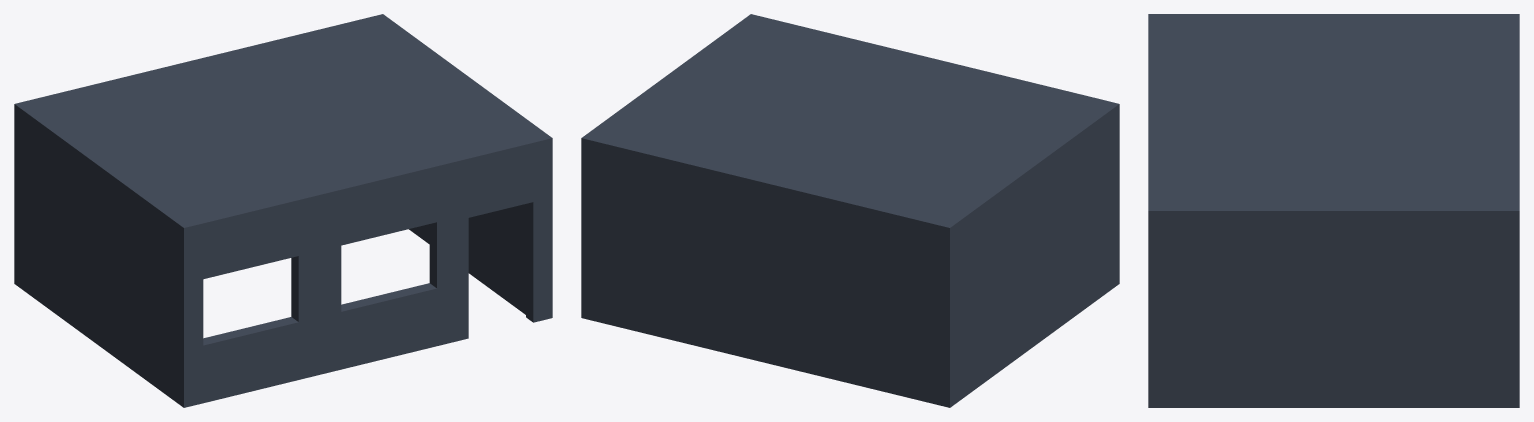
Rendered from Wall.fbx.
The picture shows the model from 3 angles, left to right: view 1: azimuth 30°, elevation 25°; view 2: azimuth 150°, elevation 25°; view 3: azimuth 270°, elevation 25°; orthographic projection. The views are drawn at different scales.
Parts seen in each view (by area): view 1: Wall; view 2: Wall; view 3: Wall.
Boxes of the visible parts, x1,y1,x2,y2 form: Wall: (14, 14, 552, 407); Wall: (581, 14, 1119, 407); Wall: (1148, 14, 1519, 407).
Bounding box in the file's own units: 623 × 781 × 364.
